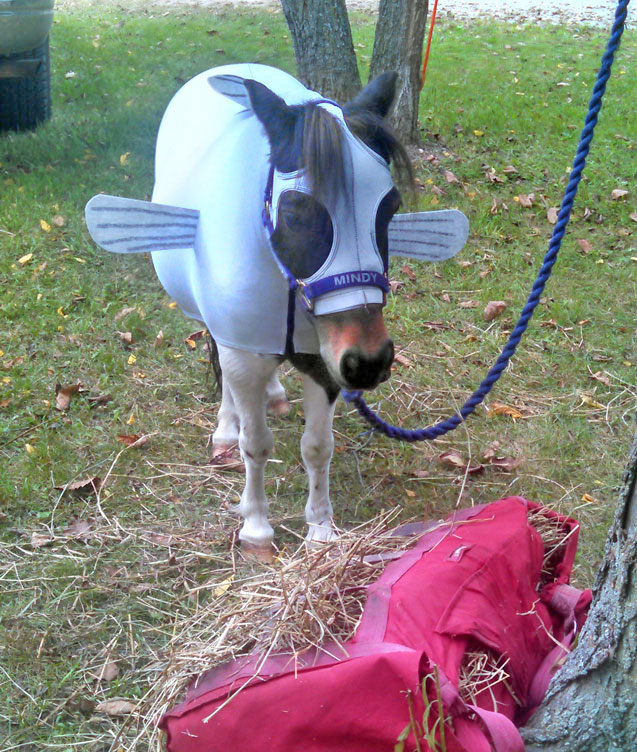Horse: (95, 44, 441, 545)
